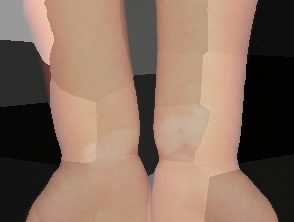vitiligo: (148, 71, 226, 167), (71, 113, 150, 180)
